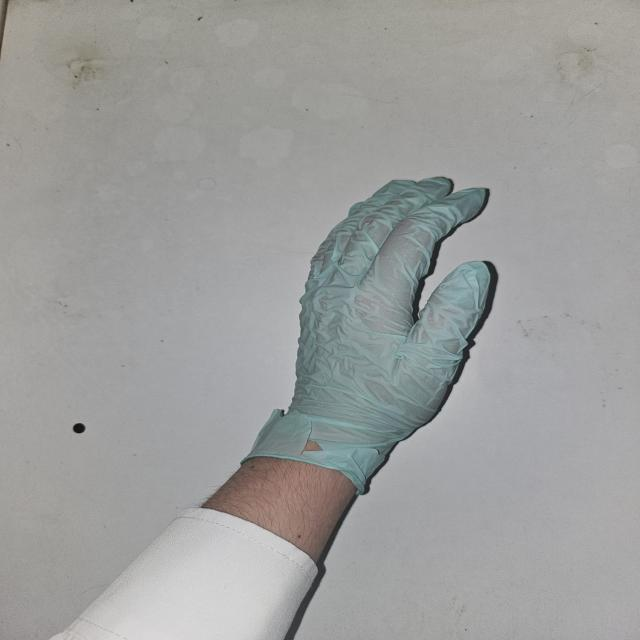gloves_damaged: (238, 175, 496, 495)
